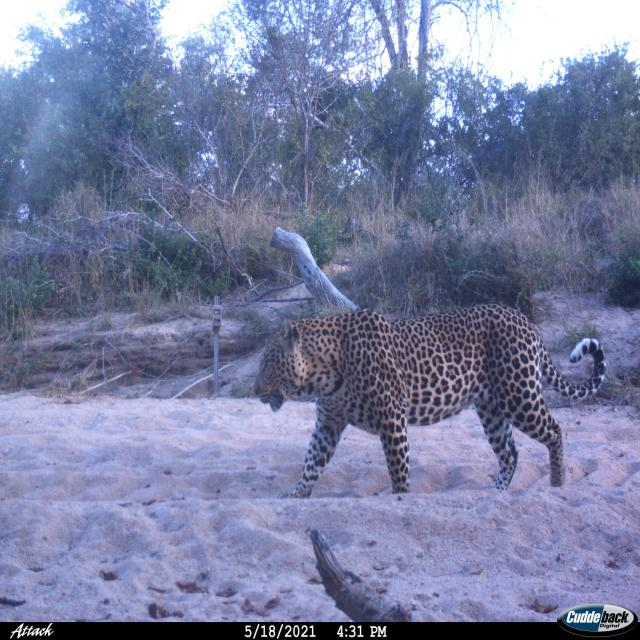Leopard: (246, 290, 614, 508)
